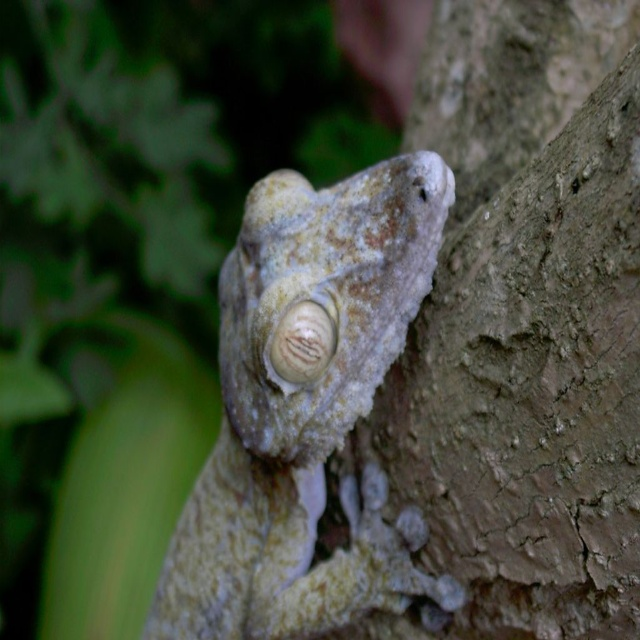Lizard: (141, 127, 455, 630)
